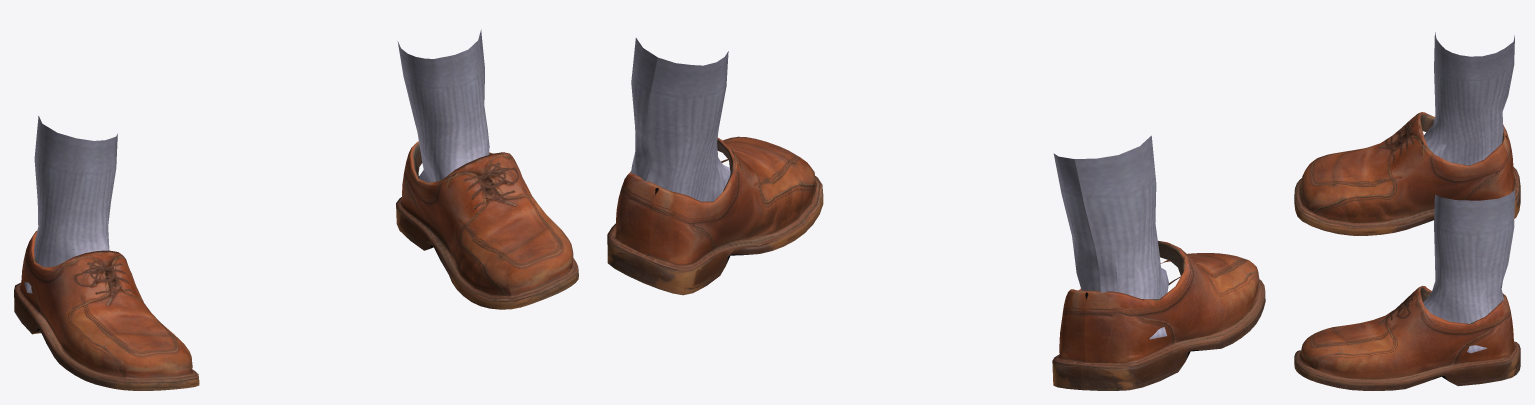
The model's file is shoes01-mobile.glb.
3 renders of one model, left to right at view 1: azimuth 30°, elevation 25°; view 2: azimuth 150°, elevation 25°; view 3: azimuth 270°, elevation 25°, orthographic. The views are drawn at different scales.
Parts seen in each view (by area): view 1: shoes01; view 2: shoes01; view 3: shoes01.
Boxes of the visible parts, box(x1,y1,x2,y2) form: shoes01: box(14, 29, 578, 390); shoes01: box(607, 38, 1265, 390); shoes01: box(1294, 32, 1520, 390).
Bounding box in the file's own units: 0.5657 × 0.2353 × 0.2519.
Materials: 1 (1 with a texture image).
